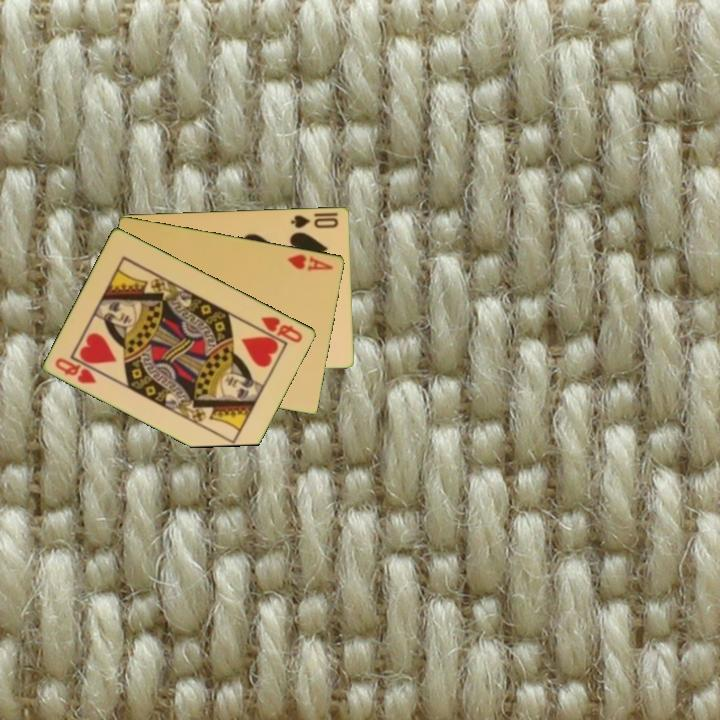10s: (288, 211, 341, 231)
Ah: (284, 250, 336, 273)
Qh: (258, 313, 306, 346), (52, 354, 99, 387)
